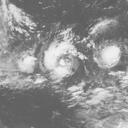cyclone: (41, 38, 84, 80), (95, 40, 122, 68)
